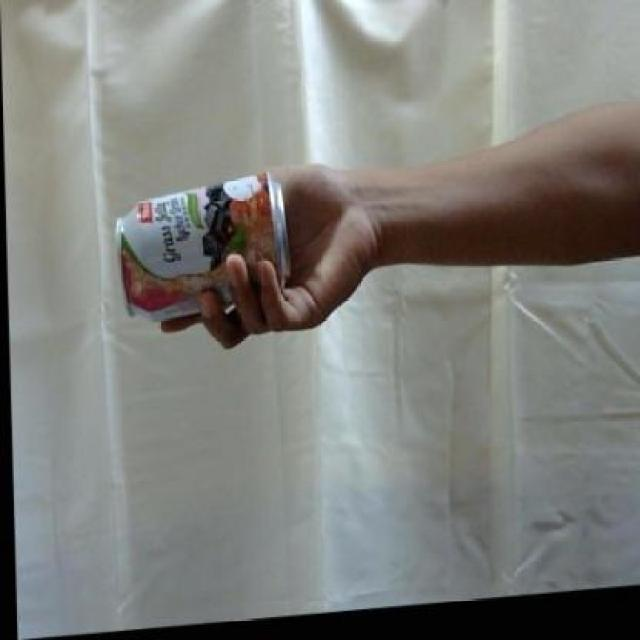Metal: (110, 167, 295, 327)
